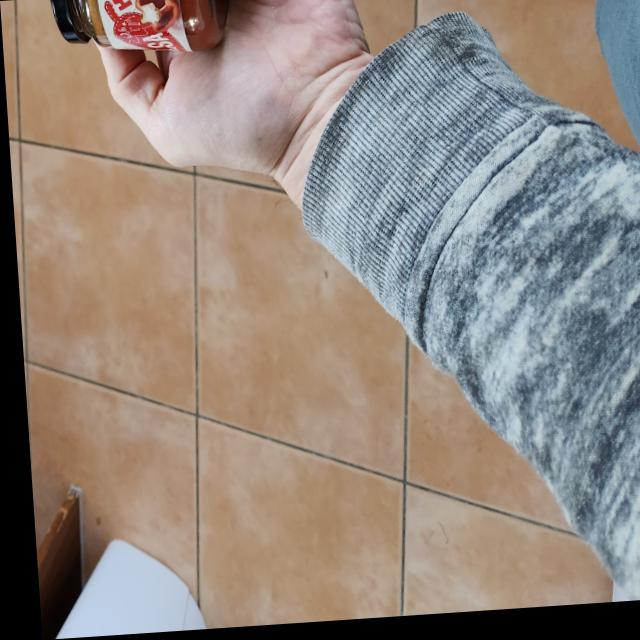salsa: (45, 0, 232, 62)
